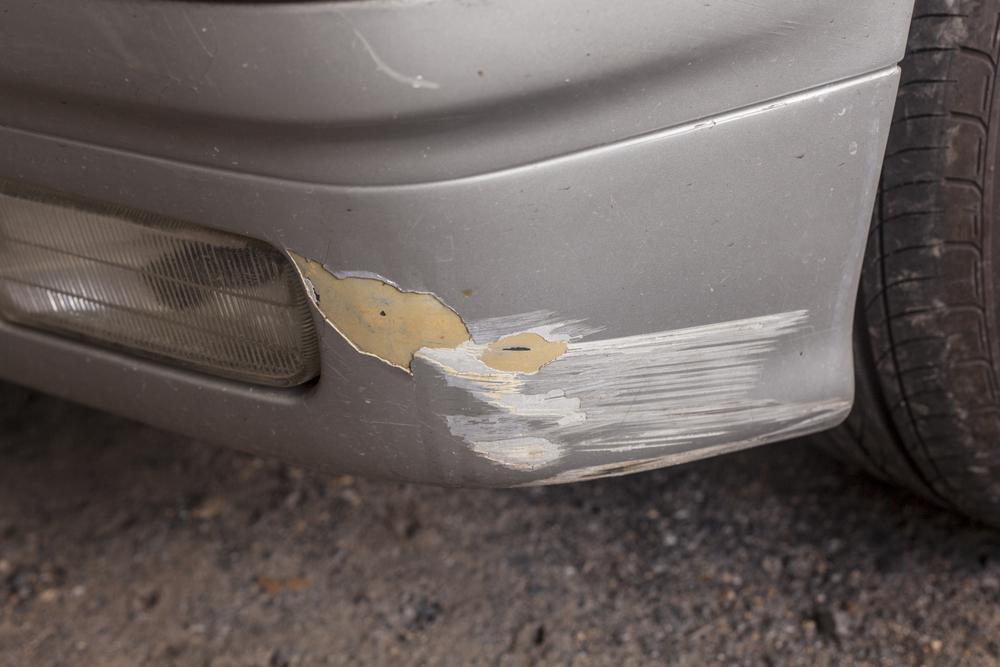scratch: (414, 304, 852, 485)
